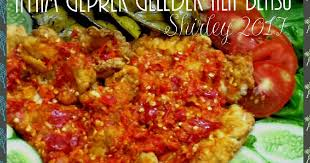ayam_geprek: (16, 19, 231, 163)
